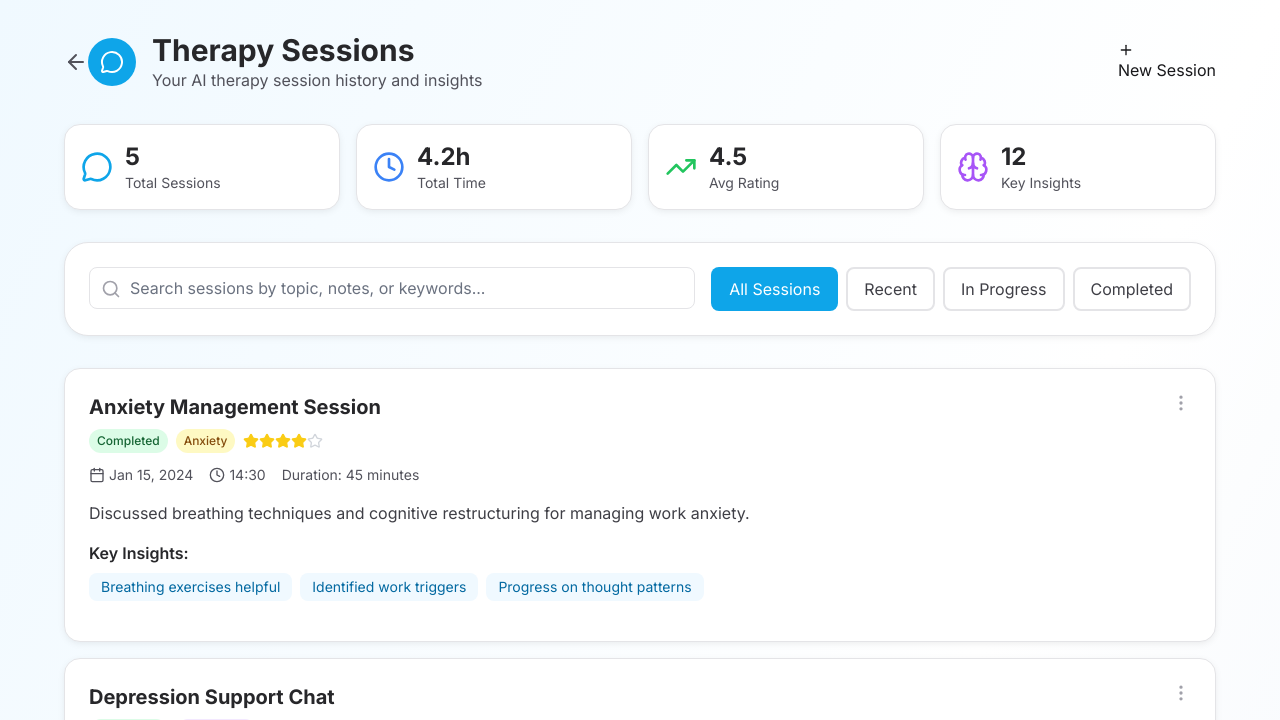
TherapySessionsPage › displays empty state when no sessions match filters
Note: Search for something that doesn't exist
In the field with placeholder "Search sessions by topic, notes, or keywords...": (392, 288) [89,267,695,309], type "nonexistentsession"
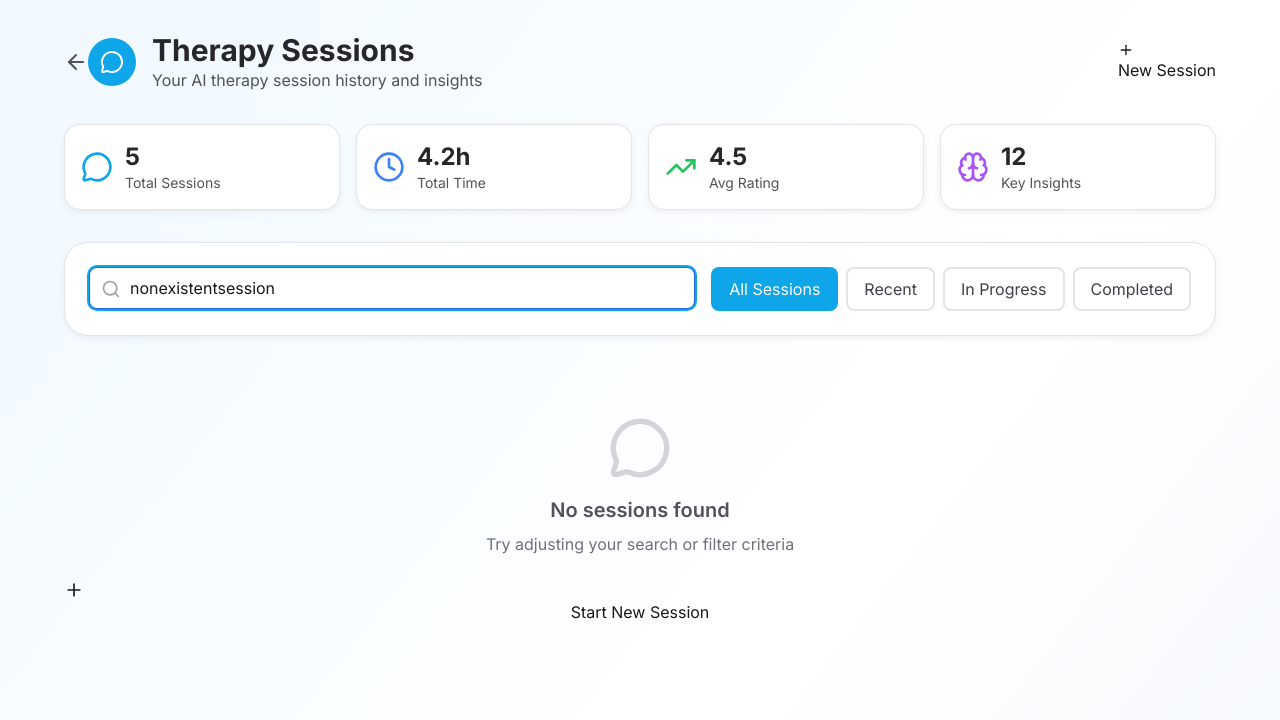
Expected: the heading "No sessions found" is shown, [550,498,730,522]
Expected: the text "Try adjusting your search or filter criteria" is shown, [486,534,794,554]
